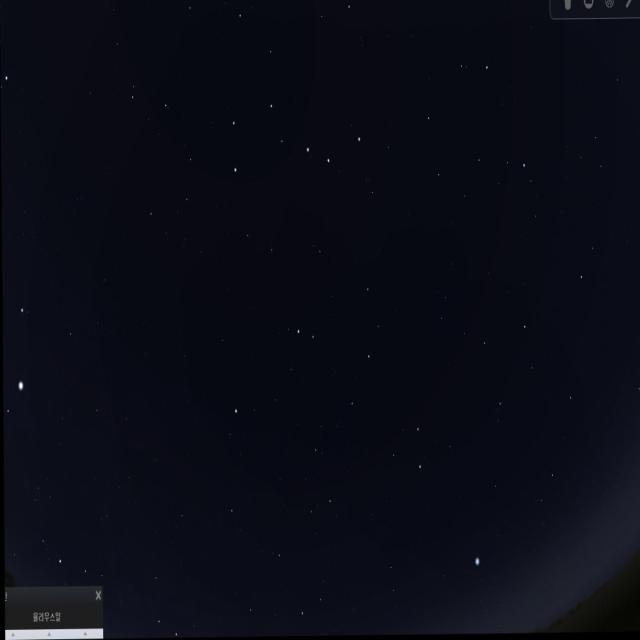ursa_major: (220, 90, 367, 200)
